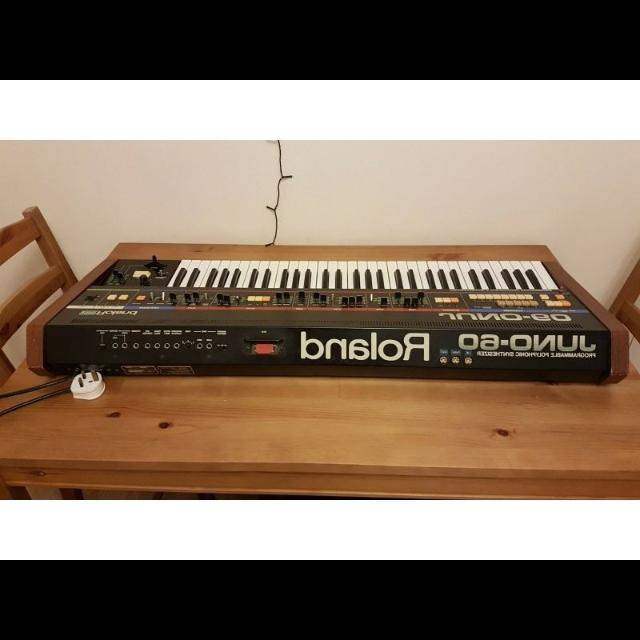Electronic-Keyboard: (37, 235, 626, 375)
